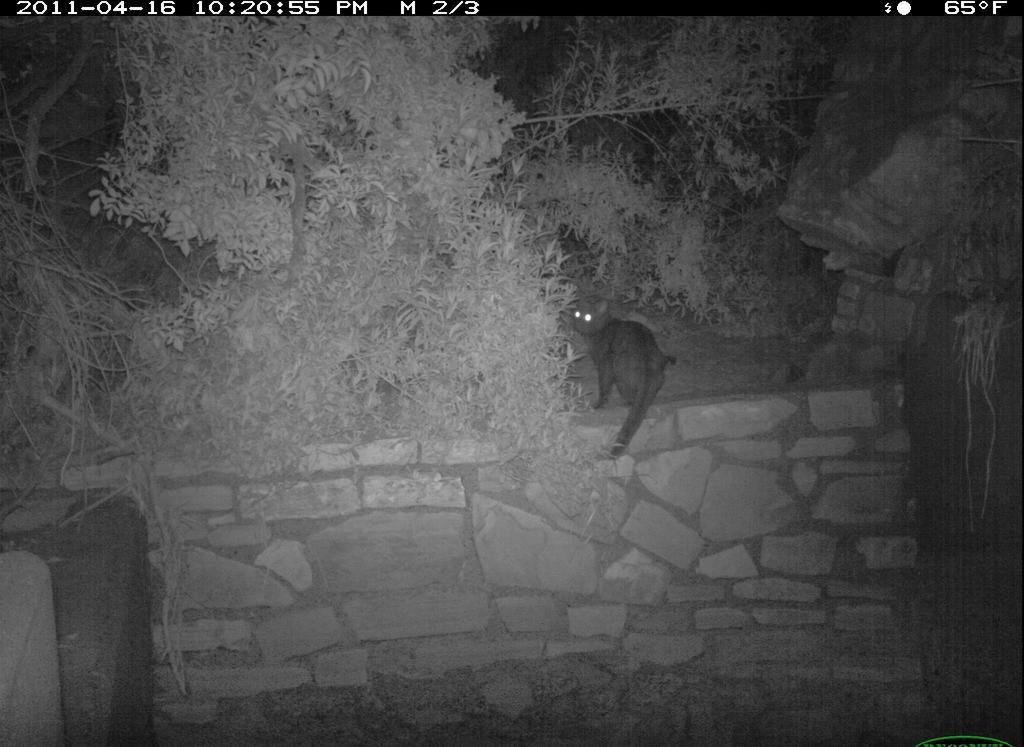cat: (560, 294, 680, 452)
